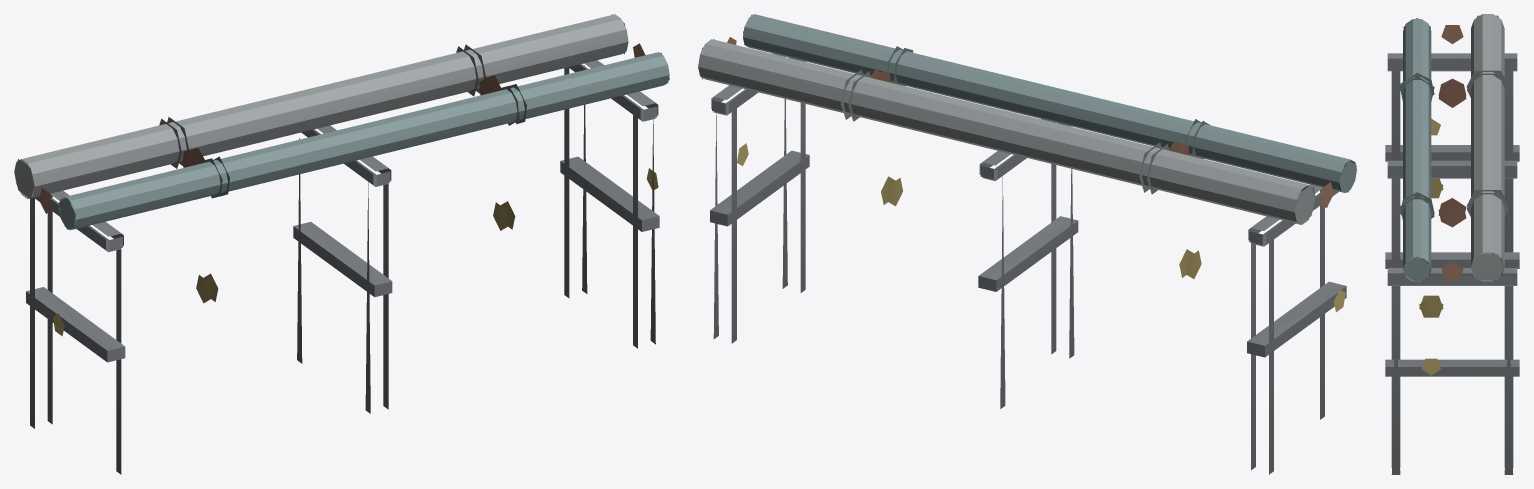
The model's file is mil_pipe_rack.lod.glb.
3 renders of one model, left to right at view 1: azimuth 30°, elevation 25°; view 2: azimuth 150°, elevation 25°; view 3: azimuth 270°, elevation 25°, orthographic. The views are drawn at different scales.
Visible parts, largest first — view 1: mil_pipe_rack; view 2: mil_pipe_rack; view 3: mil_pipe_rack.
Boxes of the visible parts, x1,y1,x2,y2 form: mil_pipe_rack: (14, 14, 669, 474); mil_pipe_rack: (698, 14, 1356, 474); mil_pipe_rack: (1385, 14, 1519, 474).
Size of the model in its own units: 8 by 3.63 by 1.9.
